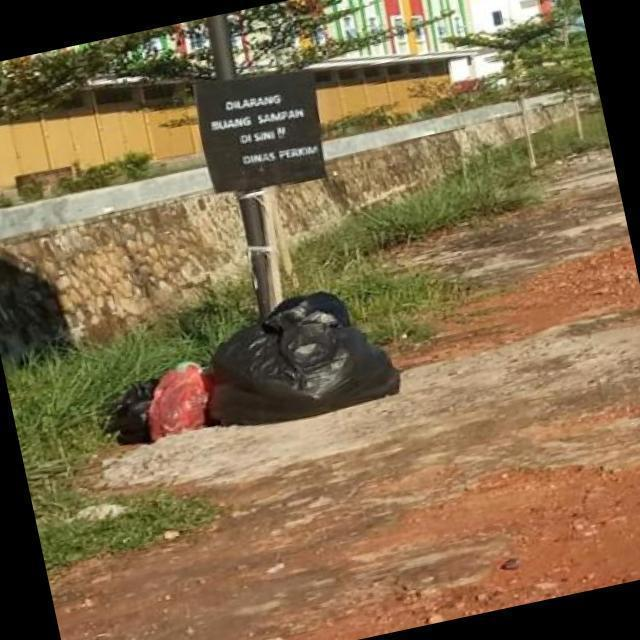Garbage_Bag: (185, 272, 408, 438)
